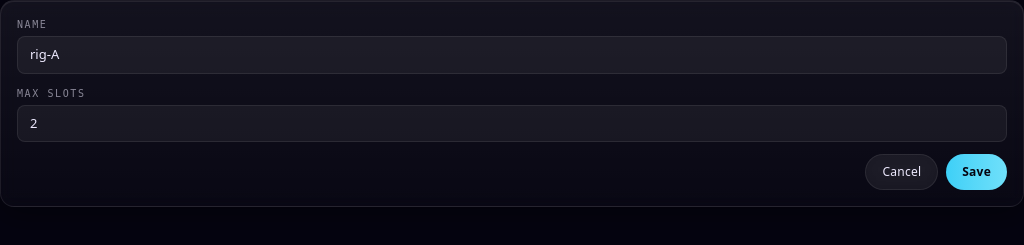
clearing max slots blocks save and does not send max_slots: 0
Clear the number field labelled "Max slots" at (512, 123), box [17, 104, 1007, 142]
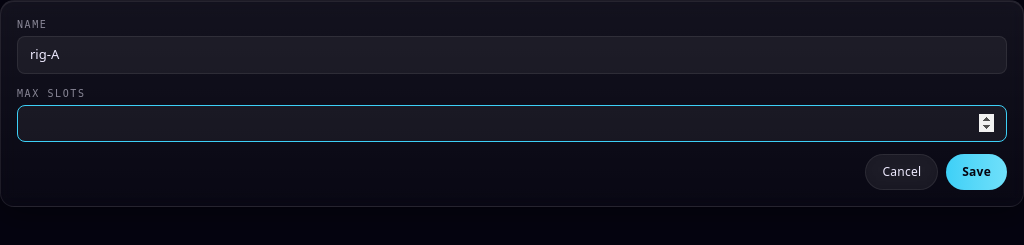
Click the button "Save".
click(977, 172)  # box [946, 154, 1007, 190]
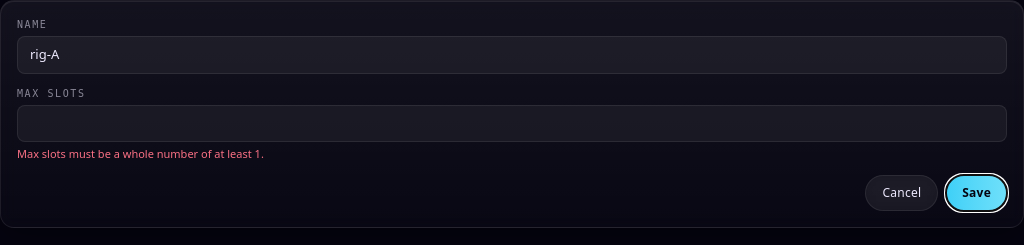
Expected: the text "Max slots must be a whole number of at least 1." is shown, [17, 146, 264, 161]
